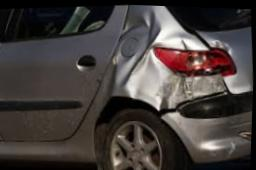Fender: (103, 5, 229, 111)
